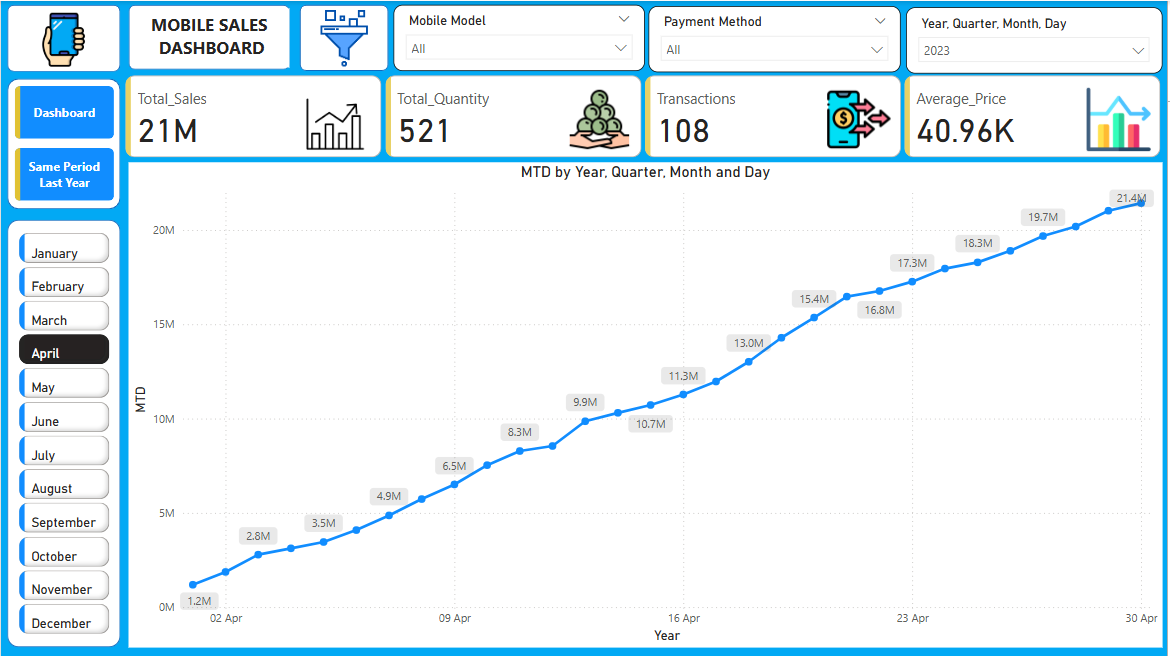

The dashboard page shown, as its layout file describes it:
{"tool":"powerbi","page":{"name":"MTD Report","canvas":[1280,720],"ordinal":1},"visuals":[{"type":"shape","box":[7.2,3.6,124.3,73.6],"z":0},{"type":"image","box":[35,3.6,68.8,77.2],"z":1000},{"type":"shape","box":[7.2,85.7,124.3,143.6],"z":2000},{"type":"cardVisual","fields":{"Data":["Mobile_Sales_Data.Total_Sales","Mobile_Sales_Data.Total_Quantity","Mobile_Sales_Data.Transactions","Mobile_Sales_Data.Average_Price"]},"box":[131.5,77.2,1148.5,100.1],"z":3000},{"type":"shape","box":[328,4.1,97.4,72.7],"z":4000},{"type":"slicer","fields":{"Values":["Mobile_Sales_Data.Mobile Model"]},"box":[430.9,4.1,275.8,72.7],"z":5000},{"type":"slicer","fields":{"Values":["Mobile_Sales_Data.Payment Method"]},"box":[710.8,5.5,277.2,72.7],"z":6000},{"type":"image","box":[328,4.1,97.4,74.1],"z":7000},{"type":"shape","box":[140,4.1,177,71.4],"z":8000},{"type":"textbox","box":[145.5,8.2,171.5,64.5],"z":9000},{"type":"slicer","fields":{"Values":["Custom_Calendar.Date.Variation.Date Hierarchy.Year","Custom_Calendar.Date.Variation.Date Hierarchy.Quarter","Custom_Calendar.Date.Variation.Date Hierarchy.Month","Custom_Calendar.Date.Variation.Date Hierarchy.Day"]},"box":[993.5,6.9,281.3,72.7],"z":10000},{"type":"lineChart","fields":{"Y":["Mobile_Sales_Data.MTD"],"Category":["Custom_Calendar.Date.Variation.Date Hierarchy.Year","Custom_Calendar.Date.Variation.Date Hierarchy.Quarter","Custom_Calendar.Date.Variation.Date Hierarchy.Month","Custom_Calendar.Date.Variation.Date Hierarchy.Day"]},"box":[140,177,1134.8,532.4],"z":12000},{"type":"shape","box":[7.2,240.1,124.3,469.3],"z":13000},{"type":"advancedSlicerVisual","fields":{"Values":["Custom_Calendar.Date.Variation.Date Hierarchy.Month"]},"box":[14.5,249.7,109.8,451.2],"z":14000},{"type":"pageNavigator","box":[15.1,93.3,109.8,127.6],"z":14001}]}

Visuals, with their boxes in screenshot pixels (x1, y1, x2, y2), scaled from the page's 1280x720 canvas onto the 1170x656 screenshot:
shape: (left=7, top=3, right=120, bottom=70)
image: (left=32, top=3, right=95, bottom=74)
shape: (left=7, top=78, right=120, bottom=209)
cardVisual - Mobile_Sales_Data.Total_Sales x Mobile_Sales_Data.Total_Quantity: (left=120, top=70, right=1169, bottom=162)
shape: (left=300, top=4, right=389, bottom=70)
slicer - Mobile_Sales_Data.Mobile Model: (left=394, top=4, right=646, bottom=70)
slicer - Mobile_Sales_Data.Payment Method: (left=650, top=5, right=903, bottom=71)
image: (left=300, top=4, right=389, bottom=71)
shape: (left=128, top=4, right=290, bottom=69)
textbox: (left=133, top=7, right=290, bottom=66)
slicer - Custom_Calendar.Date.Variation.Date Hierarchy.Year x Custom_Calendar.Date.Variation.Date Hierarchy.Quarter: (left=908, top=6, right=1165, bottom=73)
lineChart - Mobile_Sales_Data.MTD x Custom_Calendar.Date.Variation.Date Hierarchy.Year: (left=128, top=161, right=1165, bottom=646)
shape: (left=7, top=219, right=120, bottom=646)
advancedSlicerVisual - Custom_Calendar.Date.Variation.Date Hierarchy.Month: (left=13, top=228, right=114, bottom=639)
pageNavigator: (left=14, top=85, right=114, bottom=201)
